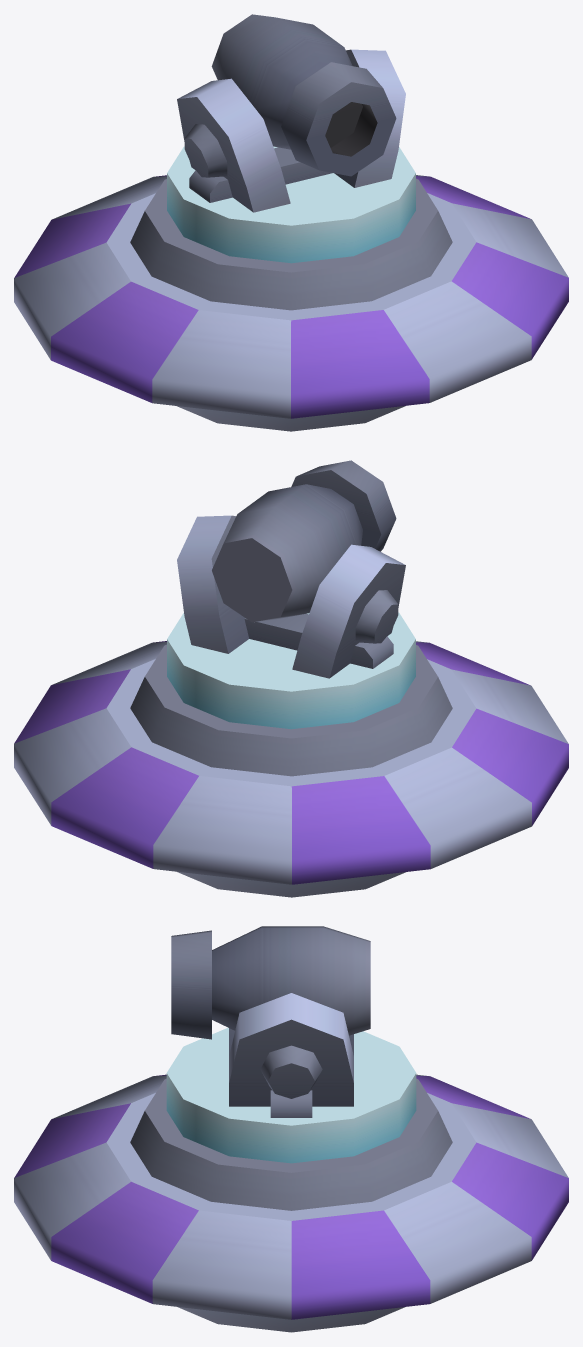
Rendered from kenney-tower-defense-enemy-ufo-c-weapon.glb.
The picture shows the model from 3 angles, top to bottom: view 1: azimuth 30°, elevation 25°; view 2: azimuth 150°, elevation 25°; view 3: azimuth 270°, elevation 25°; orthographic projection.
Parts seen in each view (by area): view 1: enemy-ufo-c-weapon; view 2: enemy-ufo-c-weapon; view 3: enemy-ufo-c-weapon.
Part boxes in pixels (x1=…): enemy-ufo-c-weapon: x1=14, y1=14, x2=568, y2=431; enemy-ufo-c-weapon: x1=14, y1=460, x2=568, y2=897; enemy-ufo-c-weapon: x1=14, y1=926, x2=568, y2=1332.
Bounding box in the file's own units: 1 × 0.6783 × 1.
1 material, 1 textured.
